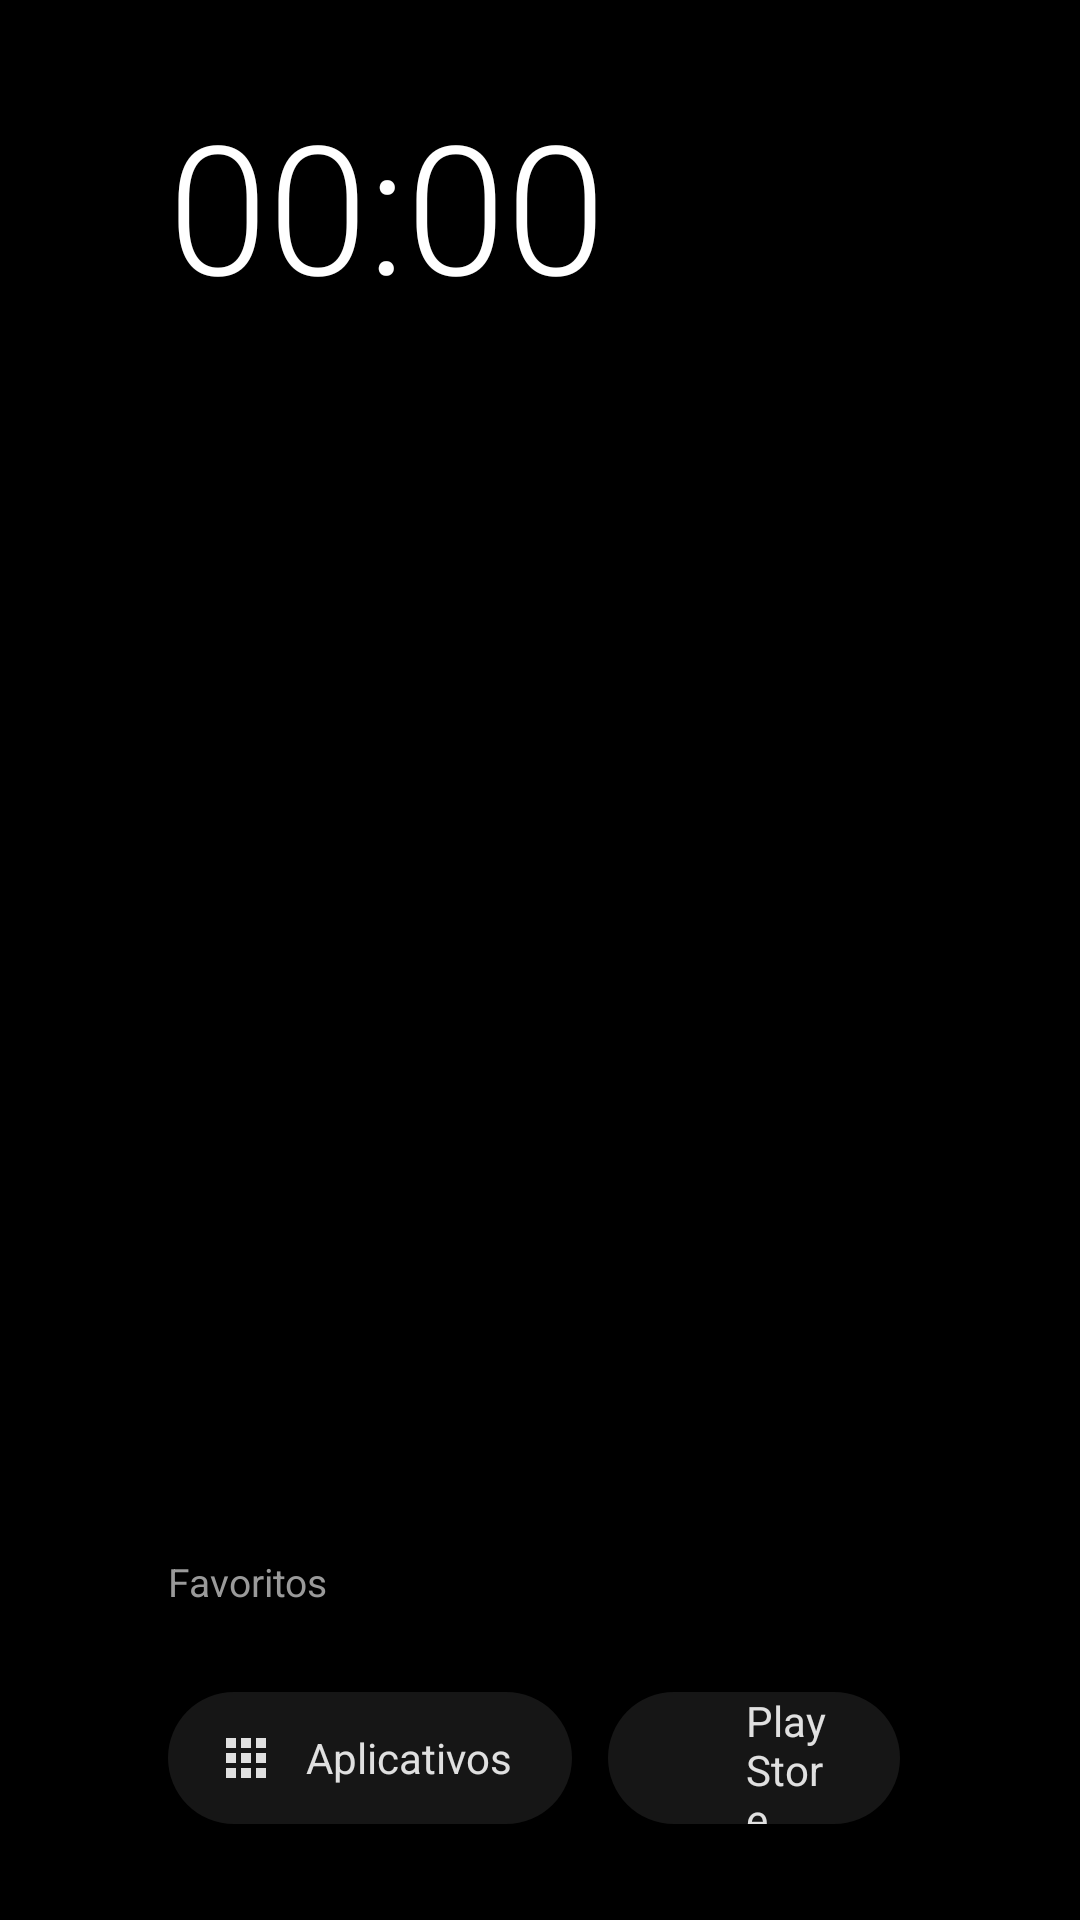

Locate icon controls on the screen. Image size 1080 × 1920, boxes as region(x1, y1, x2, y2).
apps: region(226, 1738, 266, 1778)
